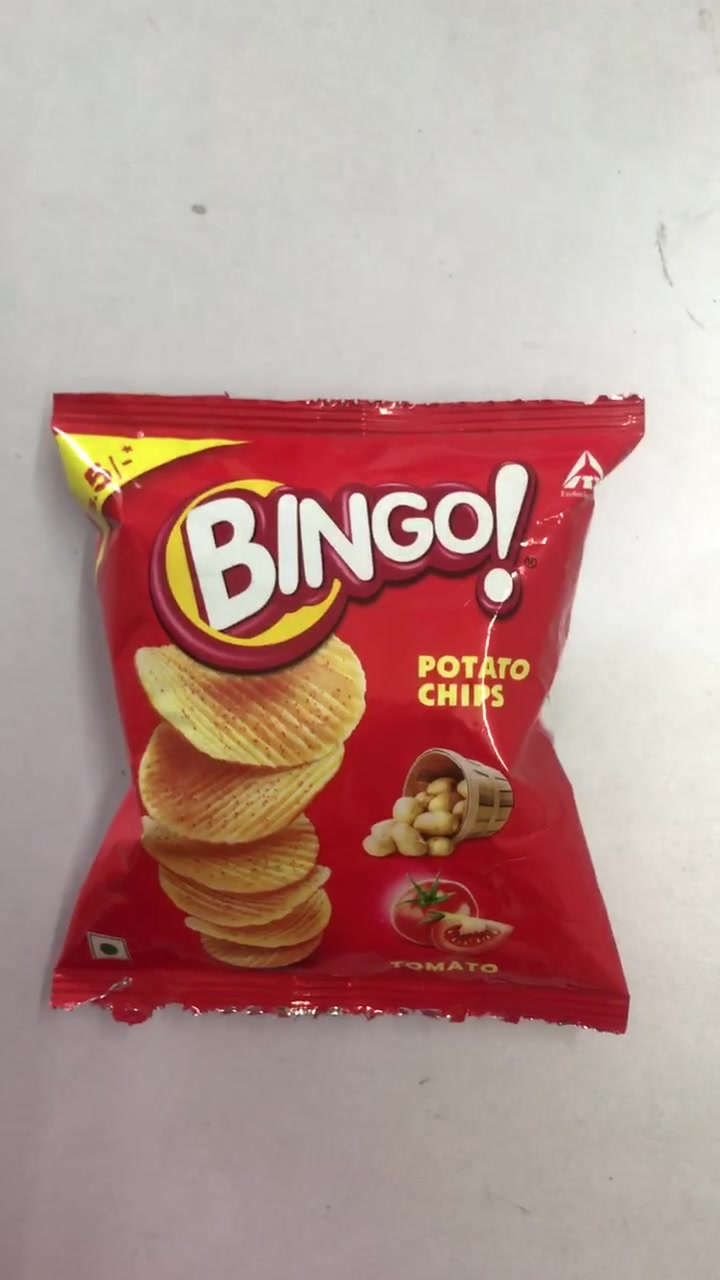Bingo: (51, 389, 633, 1024)
